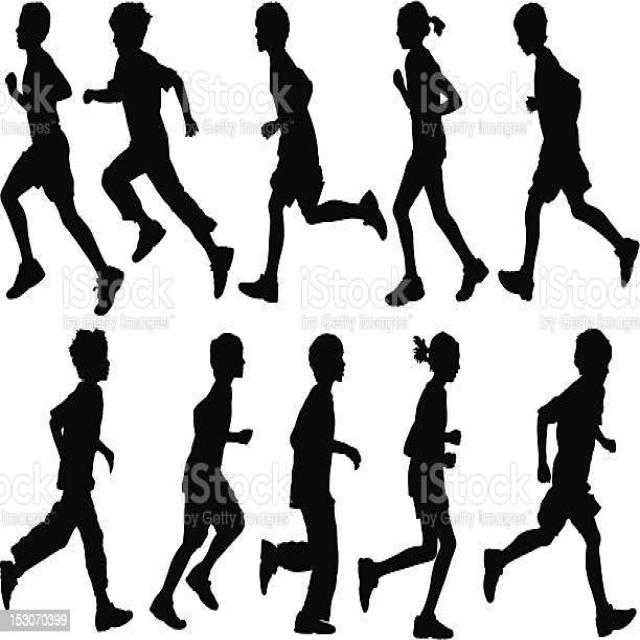Person: (483, 329, 635, 637), (238, 3, 387, 302), (84, 3, 234, 297), (499, 4, 638, 301), (0, 330, 132, 632), (2, 1, 123, 315), (359, 330, 462, 638), (148, 332, 253, 627), (388, 0, 488, 305), (260, 333, 360, 632)
